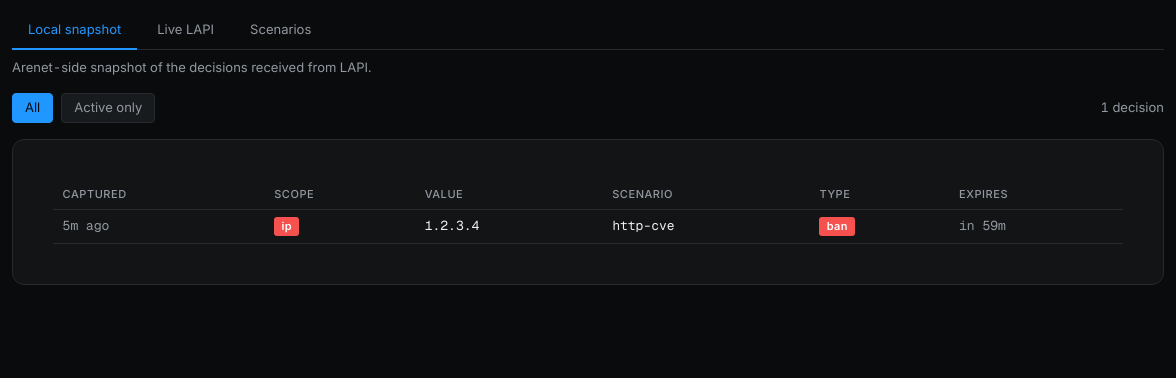
Test: CrowdSec decisions panel — Live LAPI tab › renders the operator-friendly origin badge per row
What coordinates should you click on to do the following:
click the tab with test id "tab-live"
I would click on:
 (186, 31)
Its box is [141,12,230,50].
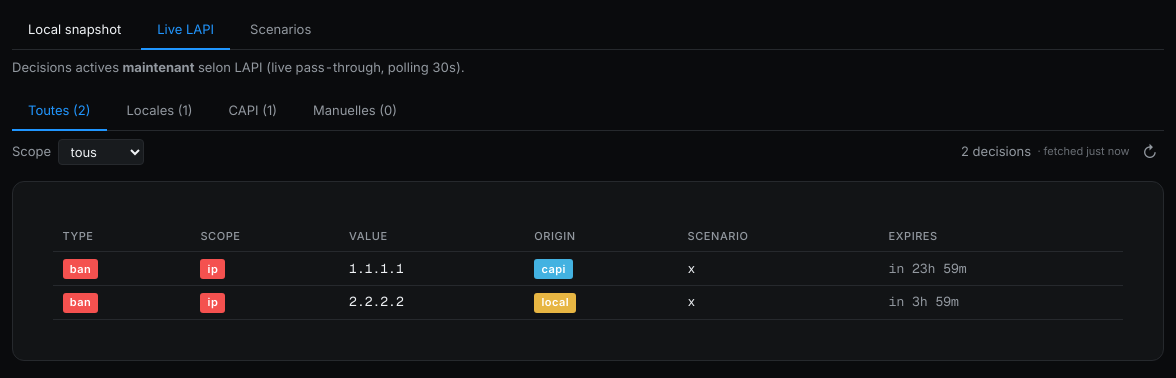
Expected: the text "Local" is shown, [12,12,137,50]
Expected: the text "1.1.1.1" is shown, [340,252,525,286]
Expected: the text "CAPI" is shown, [212,93,293,130]
